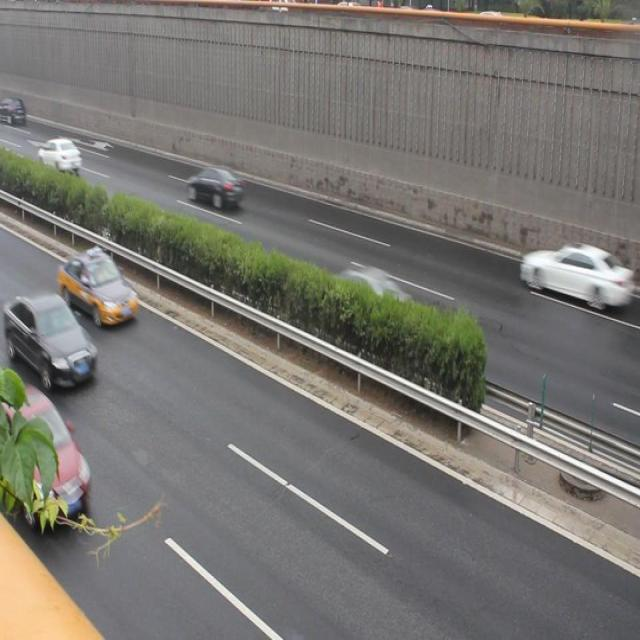car: (0, 384, 90, 532), (308, 263, 419, 357), (10, 292, 96, 388), (521, 239, 617, 309), (59, 246, 138, 328), (188, 163, 242, 213), (37, 136, 82, 177)
